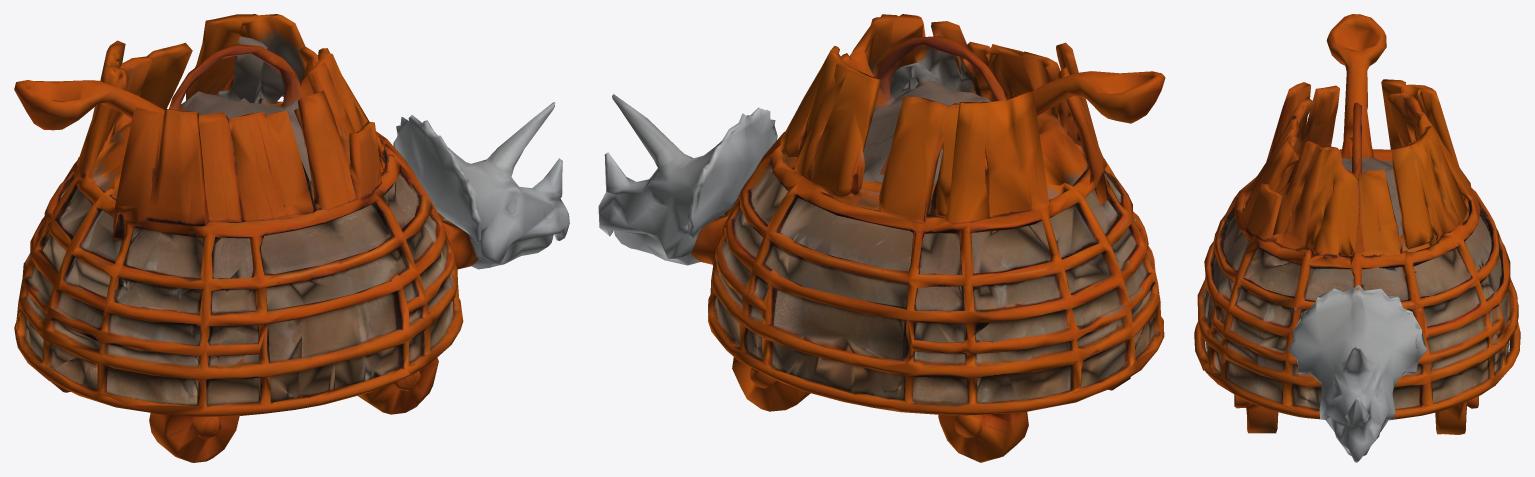
3 renders of one model, left to right at view 1: azimuth 30°, elevation 25°; view 2: azimuth 150°, elevation 25°; view 3: azimuth 270°, elevation 25°, orthographic. The views are drawn at different scales.
Parts seen in each view (by area): view 1: tripo_node_70dd7265-d68d-4961-88ee-5517819ee014; view 2: tripo_node_70dd7265-d68d-4961-88ee-5517819ee014; view 3: tripo_node_70dd7265-d68d-4961-88ee-5517819ee014.
Boxes of the visible parts, bbox=[...] form: tripo_node_70dd7265-d68d-4961-88ee-5517819ee014: bbox=[14, 14, 569, 462]; tripo_node_70dd7265-d68d-4961-88ee-5517819ee014: bbox=[598, 14, 1165, 462]; tripo_node_70dd7265-d68d-4961-88ee-5517819ee014: bbox=[1194, 14, 1520, 462].
Size of the model in its own units: 0.998 by 0.6201 by 0.6275.
1 material, 1 textured.
